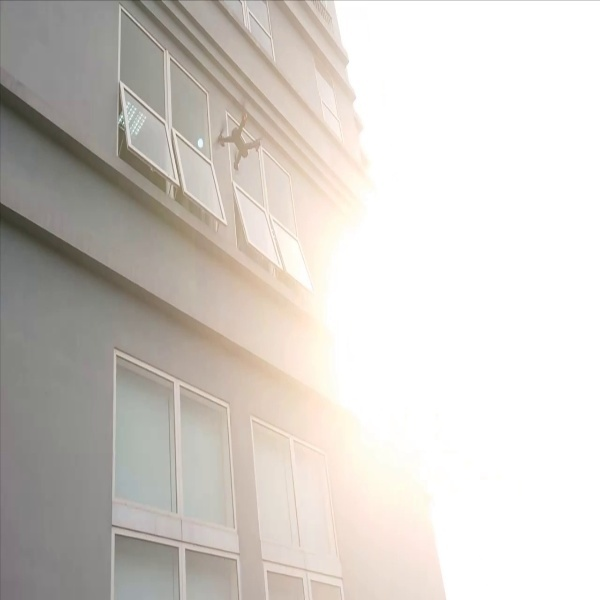drone: (206, 107, 266, 175)
